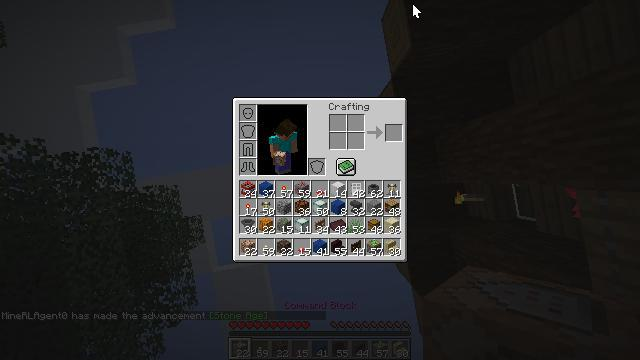cursor: (412, 3, 422, 19)
